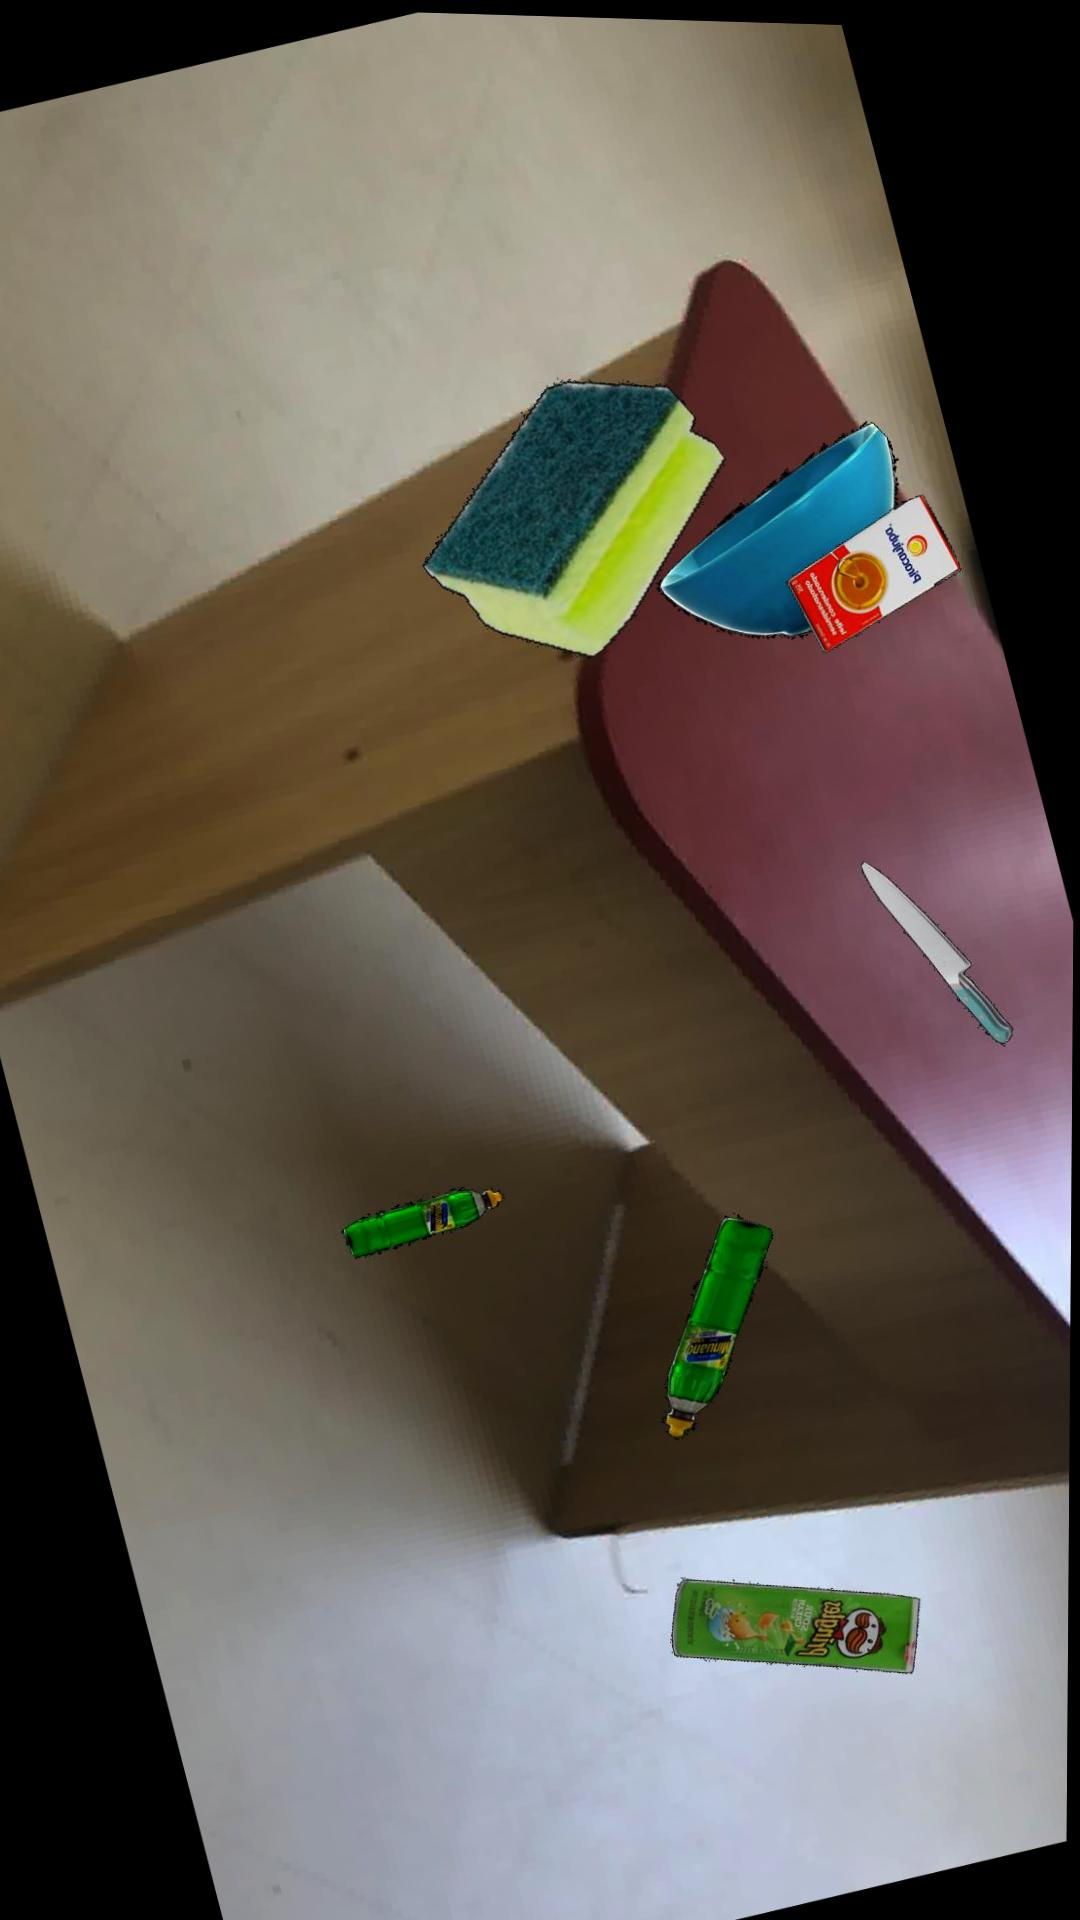bowl: (655, 417, 897, 636)
cleaner: (665, 1212, 773, 1436), (340, 1185, 504, 1258)
knife: (860, 857, 1011, 1040)
pringles: (671, 1576, 920, 1669)
sponge: (421, 378, 724, 655)
